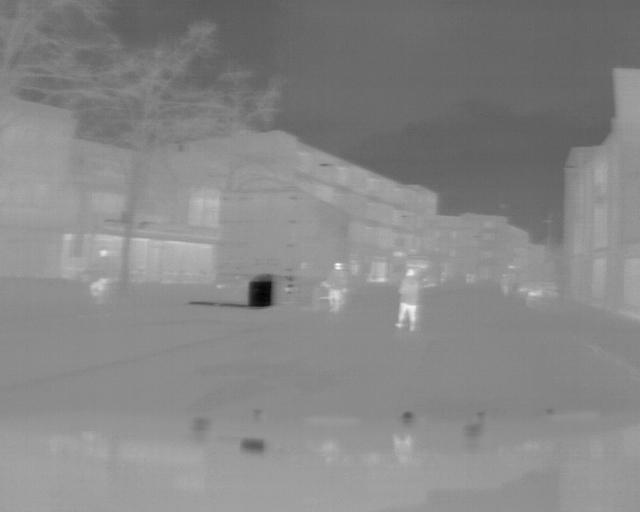person: (396, 267, 424, 334), (322, 260, 347, 314), (90, 247, 112, 308)
